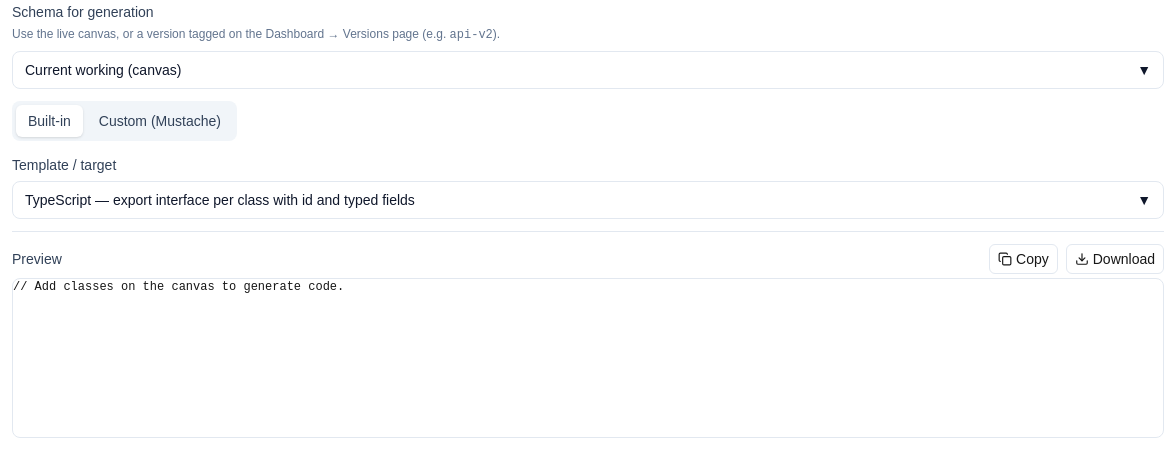
Test: CodeGenerationPreviewForm › tagged schema source › shows loading indicator while fetching tagged-version classes
# Open the schema-source combobox and select the tagged version
Step 1. Click the dropdown with test id "schema-source-select" → (103, 70), box [12,51,1164,89]
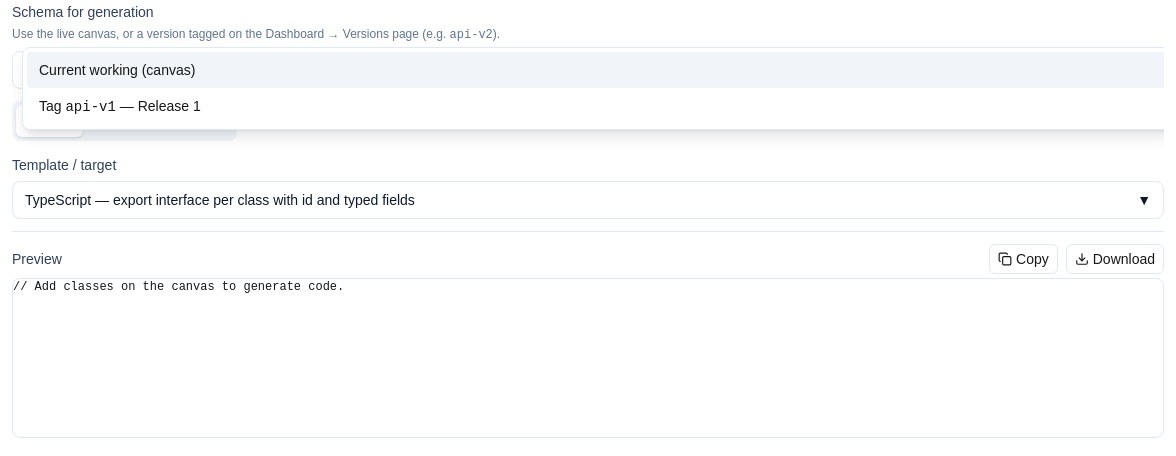
Step 2. Click the option "Tag api-v1 — Release 1" → (120, 106), box [39,98,201,115]
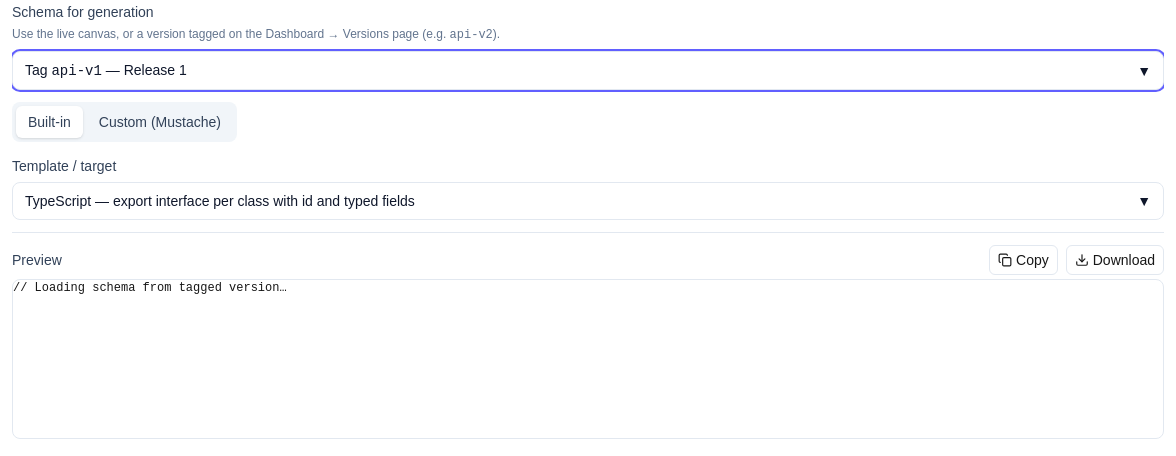
Check: the text with test id "monaco-editor" shows "Loading schema from tagged version", box [13,281,287,295]
